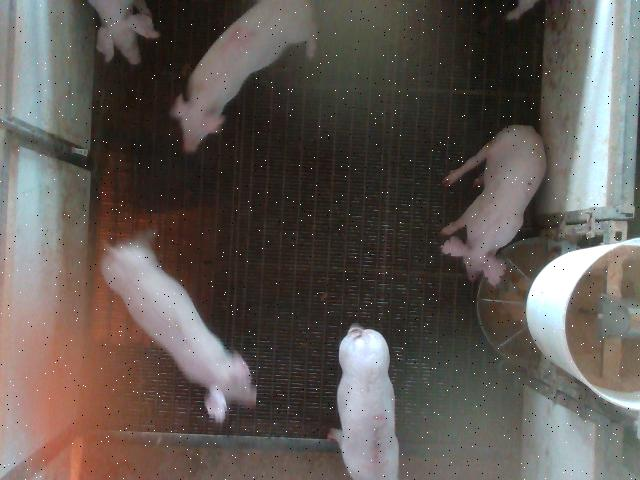pig-3: (328, 324, 399, 479)
pig-4: (171, 1, 316, 152)
